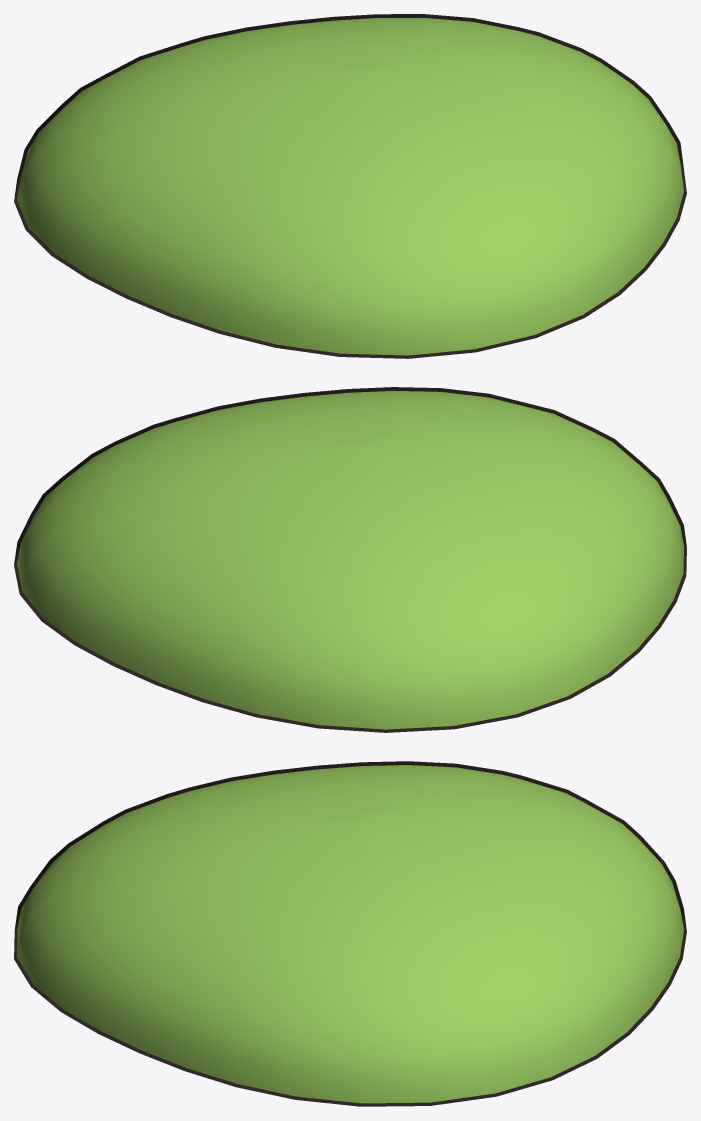
Rendered from BG_Hill_A.fbx.
3 renders of one model, top to bottom at view 1: azimuth 30°, elevation 25°; view 2: azimuth 150°, elevation 25°; view 3: azimuth 270°, elevation 25°, orthographic.
Parts seen in each view (by area): view 1: BG_Hill_A_Hill, BG_Hill_A_Outline; view 2: BG_Hill_A_Hill, BG_Hill_A_Outline; view 3: BG_Hill_A_Hill, BG_Hill_A_Outline.
Part boxes in pixels (box(x1,y1,x2,y2)): BG_Hill_A_Hill: box(17, 18, 683, 355); BG_Hill_A_Outline: box(14, 14, 686, 358); BG_Hill_A_Hill: box(17, 390, 683, 729); BG_Hill_A_Outline: box(14, 387, 686, 732); BG_Hill_A_Hill: box(17, 765, 683, 1103); BG_Hill_A_Outline: box(14, 761, 686, 1106).
Size of the model in its own units: 44.63 by 10.46 by 44.67.
